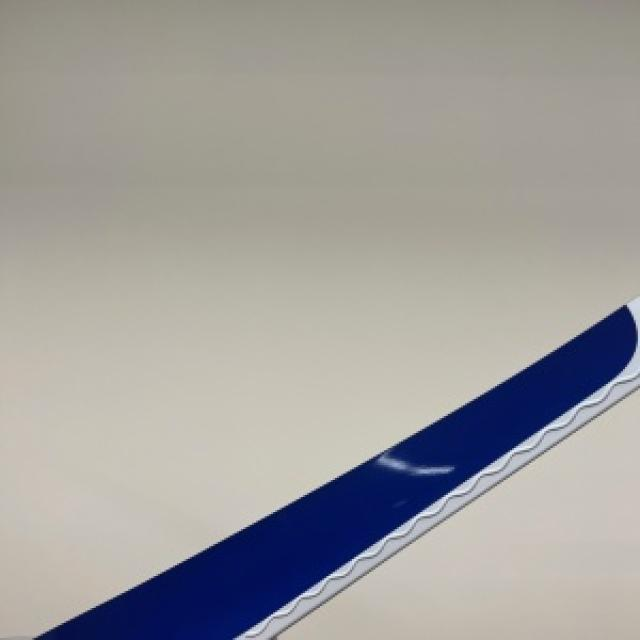healthy: (32, 294, 638, 638)
